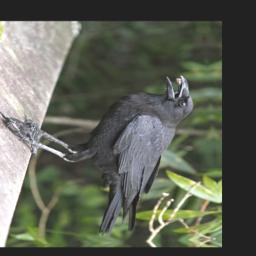Crow: (12, 74, 206, 240)
